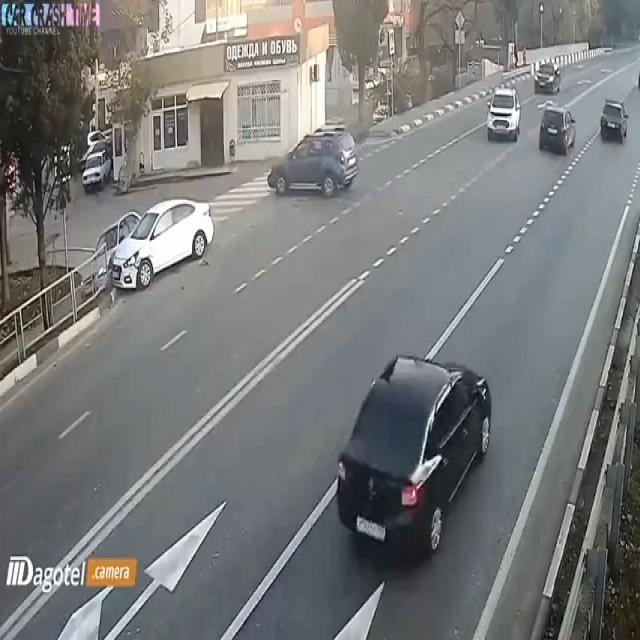Accident: (98, 197, 213, 300)
